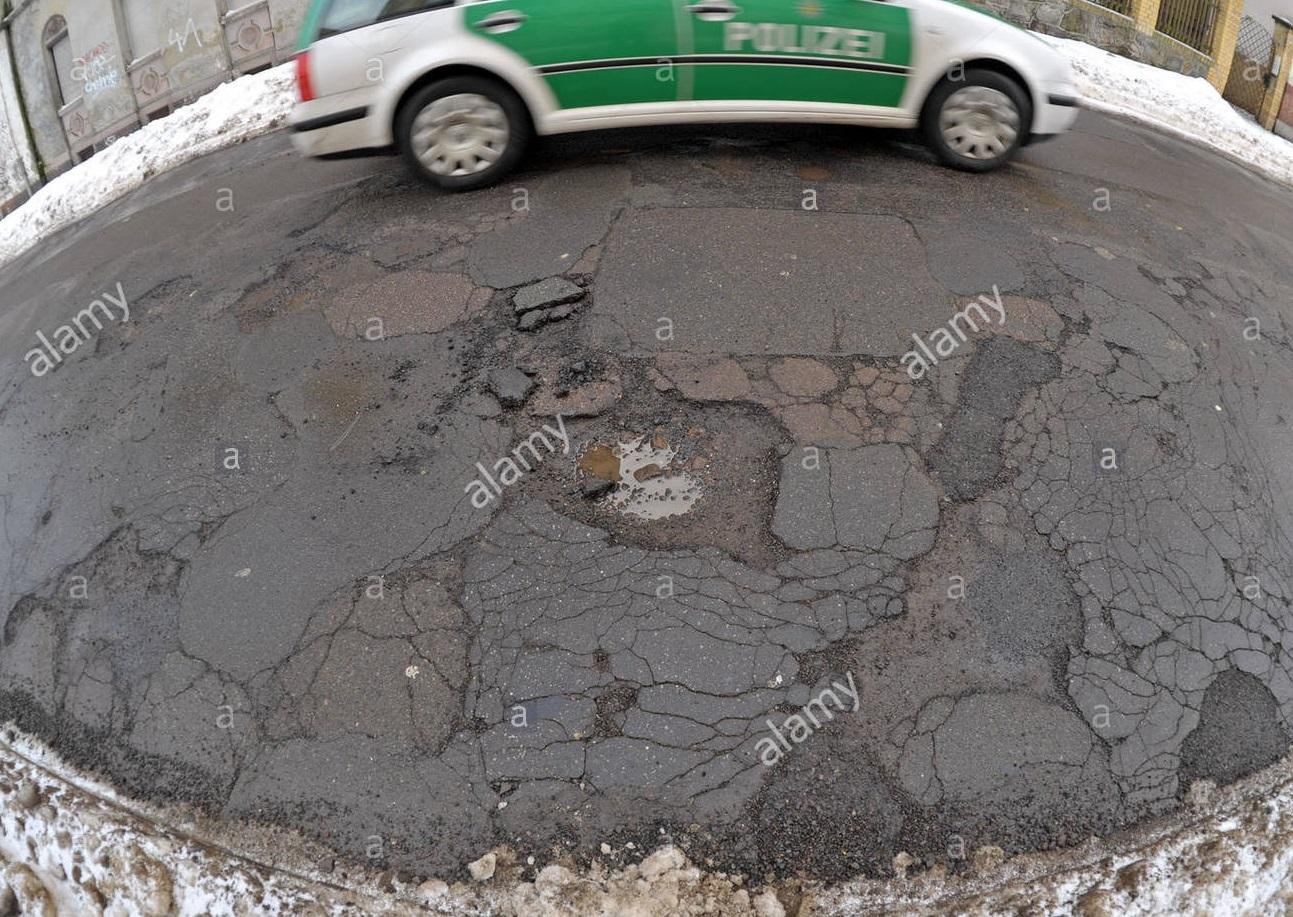Pothole: (412, 236, 852, 641)
